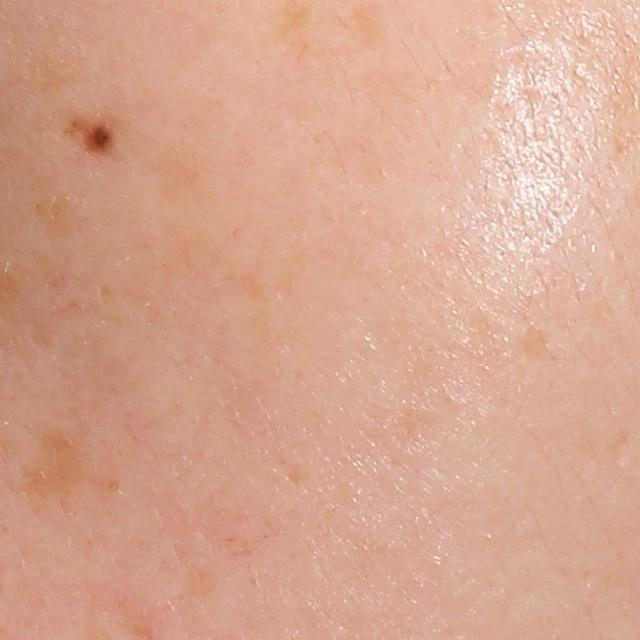melasma: (24, 430, 85, 504)
nevus: (76, 111, 114, 155)
